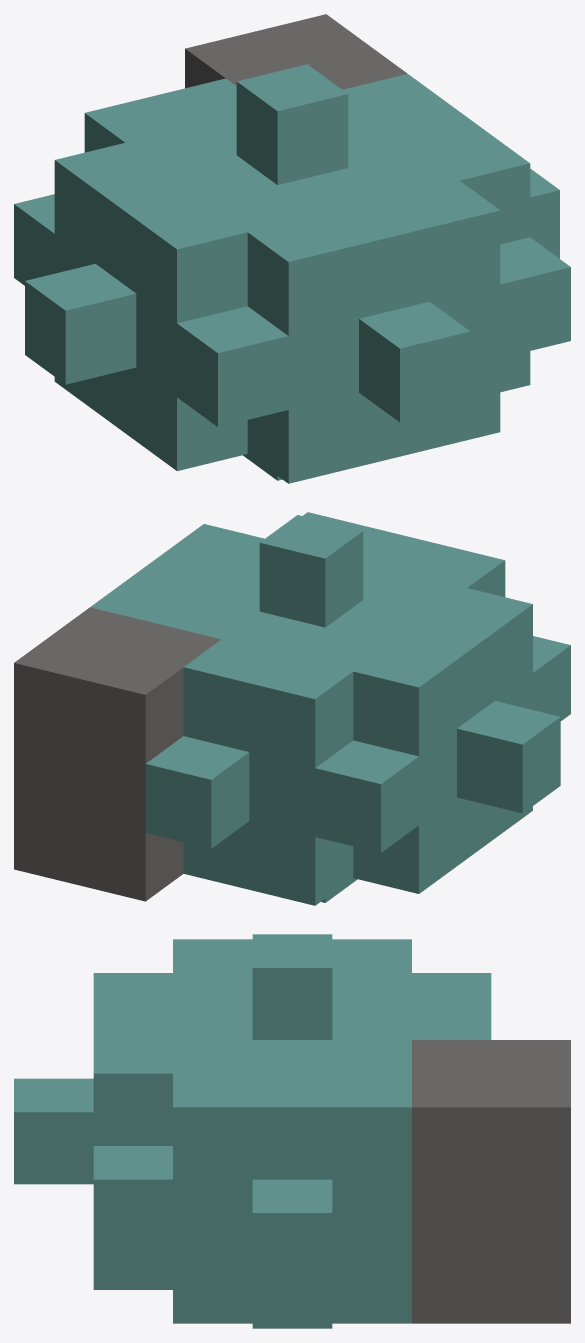
File: cowl_se.glb
3 views of the same model, one above another, from view 1: azimuth 30°, elevation 25°; view 2: azimuth 150°, elevation 25°; view 3: azimuth 270°, elevation 25° (orthographic). The views are drawn at different scales.
Bounding box in the file's own units: 7 × 5 × 7.
